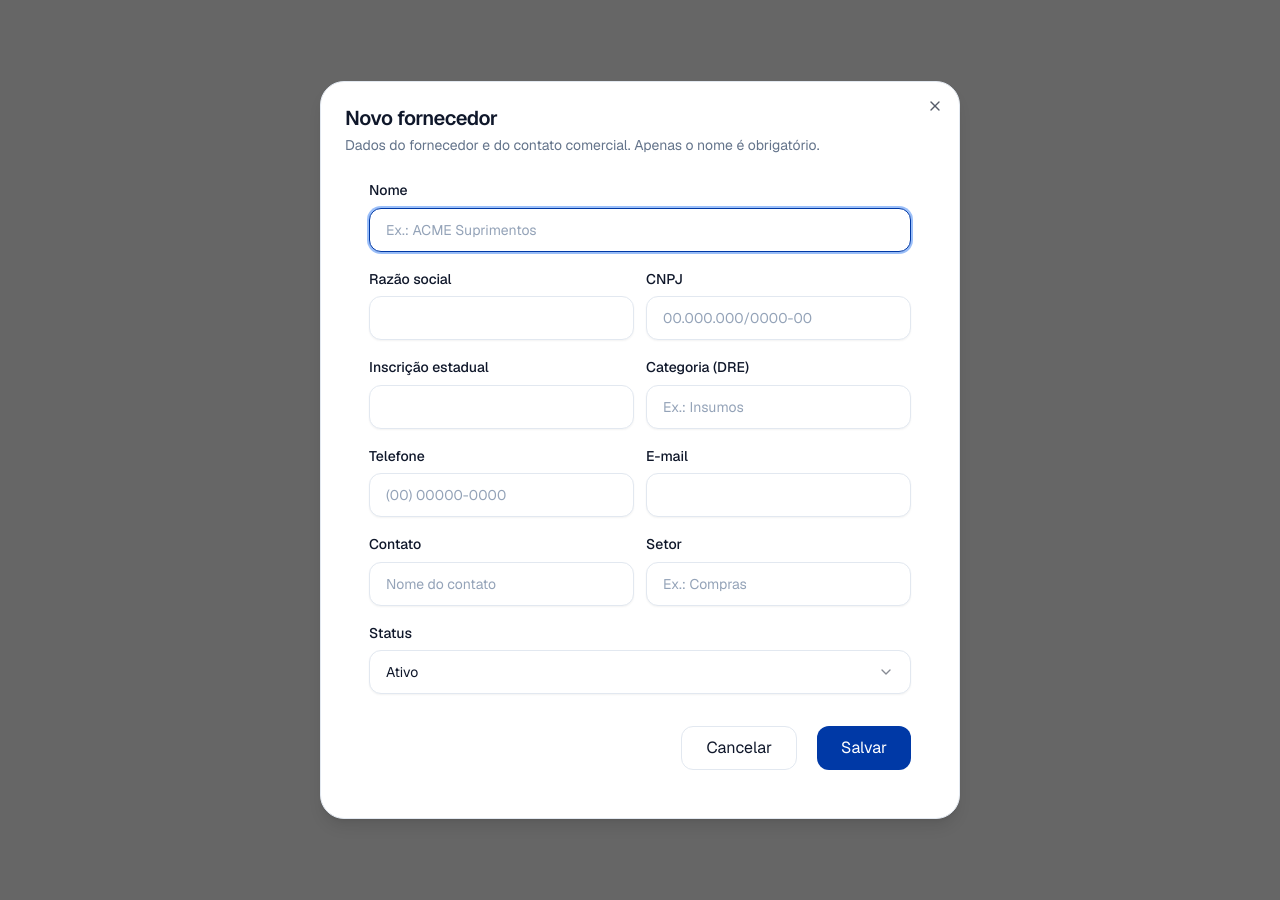
Test case: FornecedorModal — CNPJ › aplica a máscara aceitando letra na raiz (CNPJ alfanumérico)
The image size is (1280, 900).
Type "12abc34501de35" into the field labelled "CNPJ" at x=778, y=318, box top-left (646, 296), bottom-right (911, 340)
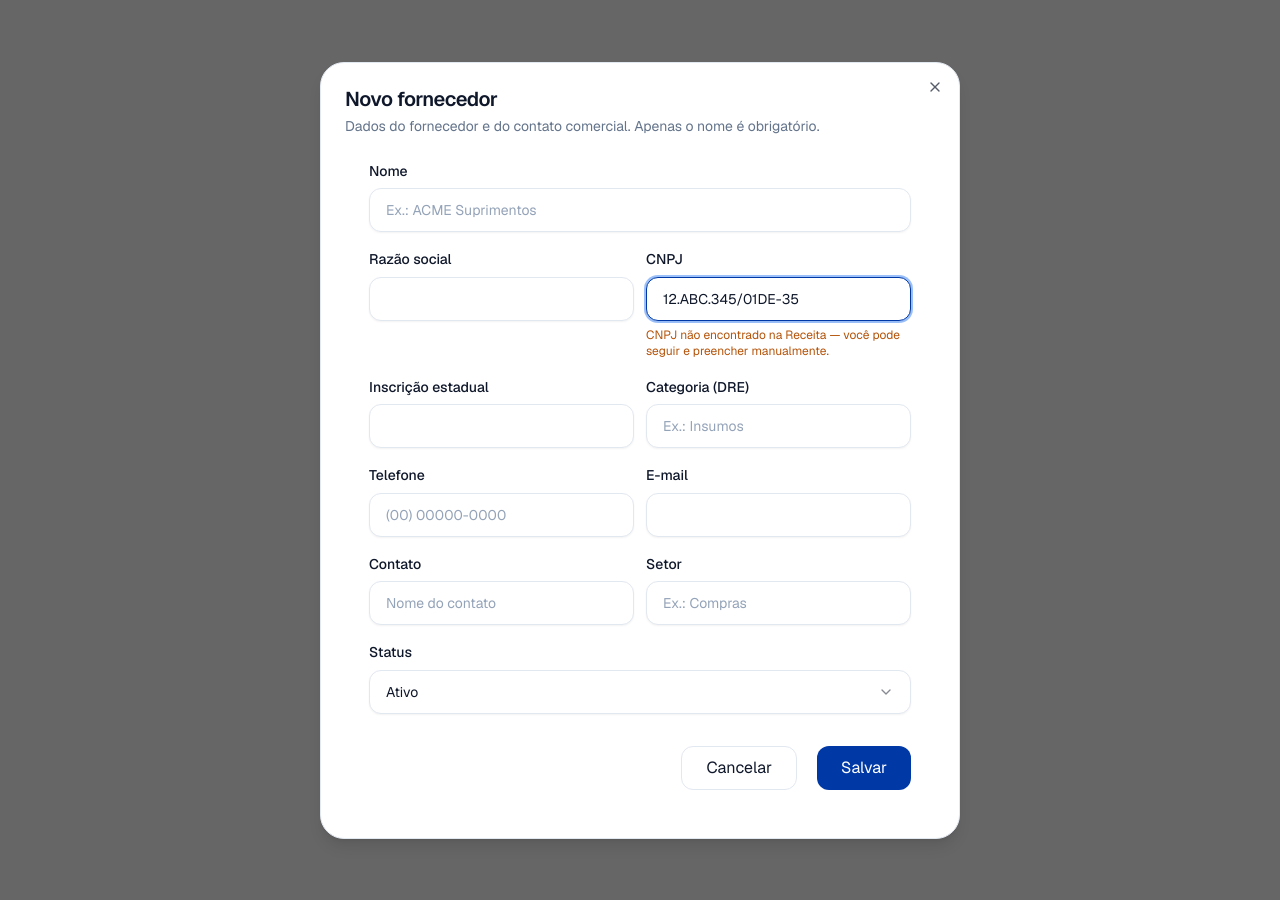
Now the field labelled "CNPJ" holds "12.ABC.345/01DE-35", box top-left (646, 276), bottom-right (911, 320)
